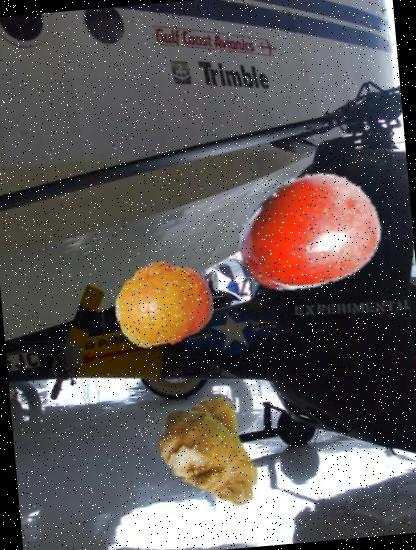Cherry: (232, 159, 389, 316)
Ginger: (152, 386, 282, 515)
Mandarine: (108, 248, 219, 360)
